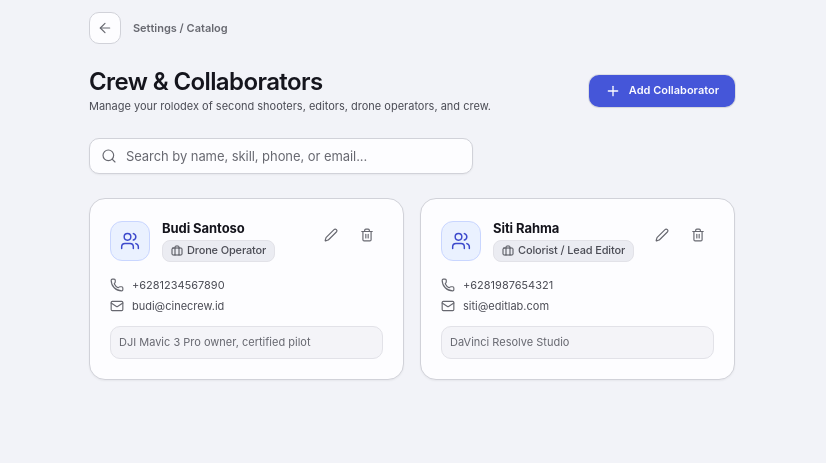
Test: CollaboratorsRoute & CollaboratorsList (STAB-P1-001) › prevents deletion of a collaborator who is referenced in project engagements
This screenshot has width=826, height=463.
Click the button with test id "delete-collaborator-btn-collab-1": {"x": 367, "y": 236} [351, 220, 383, 252]
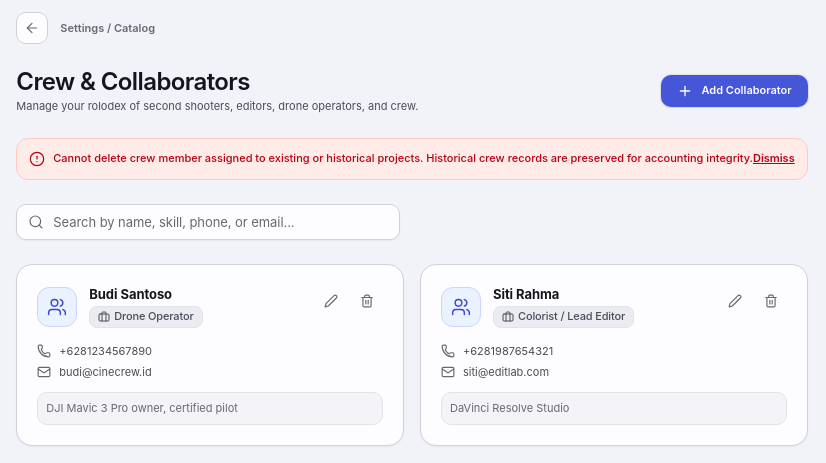
Result: the text "Cannot delete crew member assigned to existing or historical projects" is shown at [53, 151, 753, 165]
